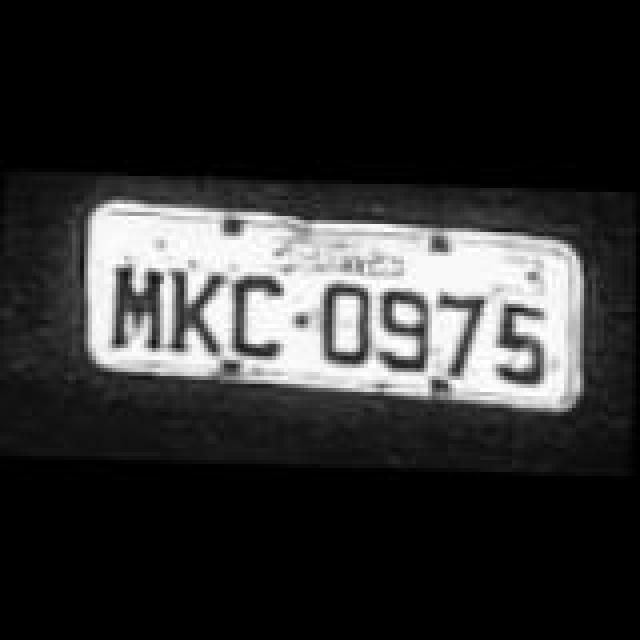5: (492, 298, 548, 382)
7: (434, 292, 494, 376)
9: (376, 286, 432, 370)
C: (226, 268, 286, 352)
D: (318, 280, 378, 364)
K: (172, 266, 228, 350)
M: (112, 264, 168, 348)
